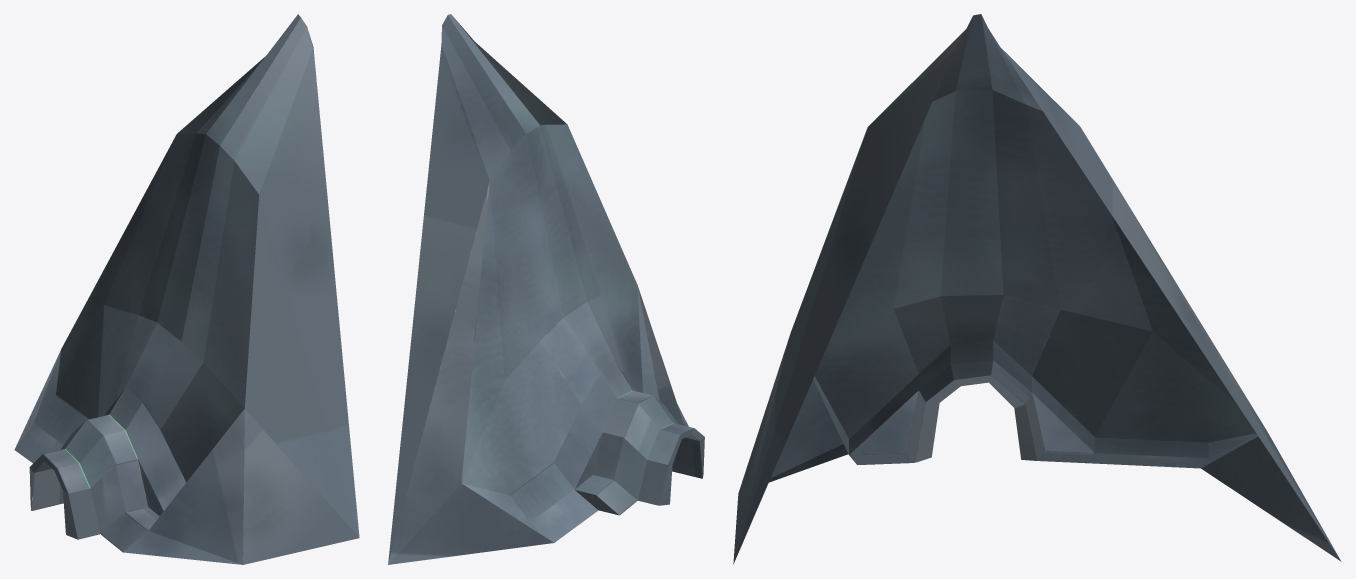
Rendered from cave.fbx.
3 views of the same model, side by side, from view 1: azimuth 30°, elevation 25°; view 2: azimuth 150°, elevation 25°; view 3: azimuth 270°, elevation 25° (orthographic). The views are drawn at different scales.
Parts seen in each view (by area): view 1: tube; view 2: tube; view 3: tube.
Boxes of the visible parts, left/top/right/bottom form: tube: left=14, top=14, right=359, bottom=564; tube: left=388, top=14, right=704, bottom=564; tube: left=733, top=14, right=1341, bottom=564.
Bounding box in the file's own units: 71.58 × 124 × 114.
Materials: 1 (1 with a texture image).
